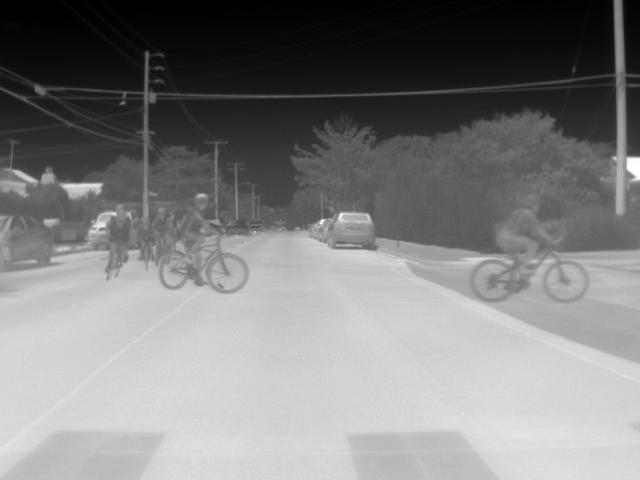car: (0, 214, 54, 273), (326, 210, 377, 251), (83, 210, 113, 249), (316, 219, 333, 244), (310, 219, 326, 239), (248, 220, 268, 232)
person: (492, 196, 566, 292), (177, 192, 224, 287), (107, 203, 135, 269), (153, 205, 171, 254)
